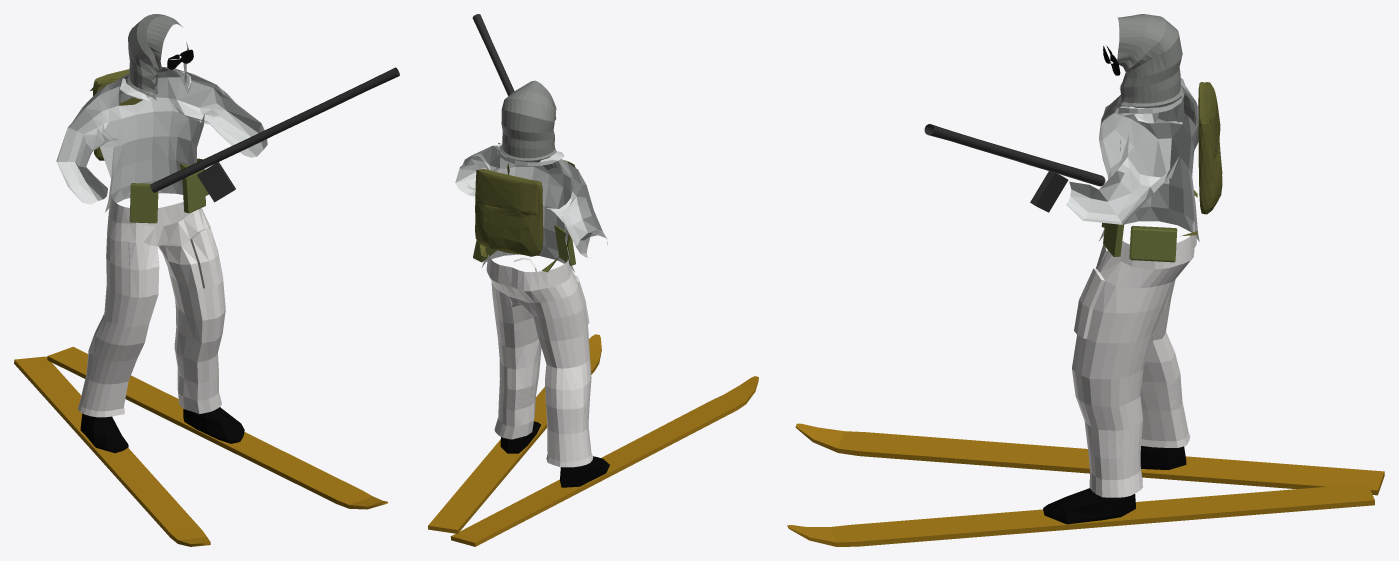
The model's file is Alpine Troops.glb.
3 renders of one model, left to right at view 1: azimuth 30°, elevation 25°; view 2: azimuth 150°, elevation 25°; view 3: azimuth 270°, elevation 25°, orthographic. The views are drawn at different scales.
Parts seen in each view (by area): view 1: jacket_Circle_003; view 2: jacket_Circle_003; view 3: jacket_Circle_003.
Boxes of the visible parts, x1=… form: jacket_Circle_003: x1=14, y1=14, x2=399, y2=546; jacket_Circle_003: x1=428, y1=14, x2=758, y2=546; jacket_Circle_003: x1=787, y1=14, x2=1384, y2=546.
Size of the model in its own units: 1.33 by 2.03 by 2.25.
